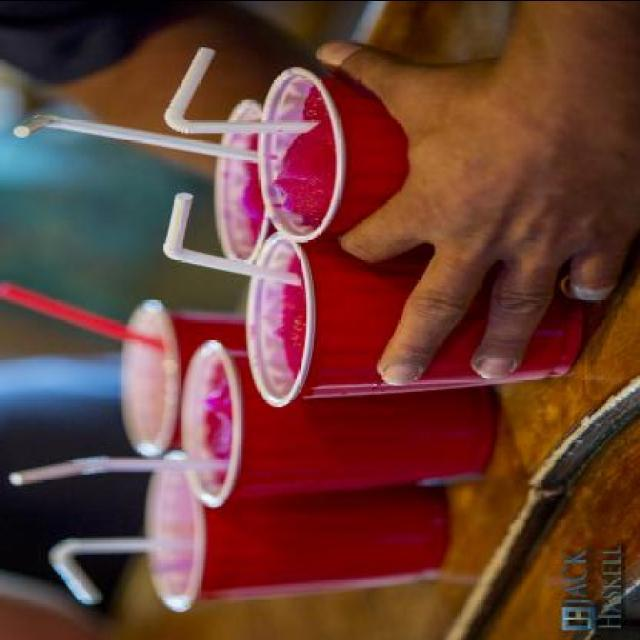Juice: (246, 230, 526, 401), (268, 84, 334, 228), (228, 118, 262, 248), (202, 359, 236, 483)
